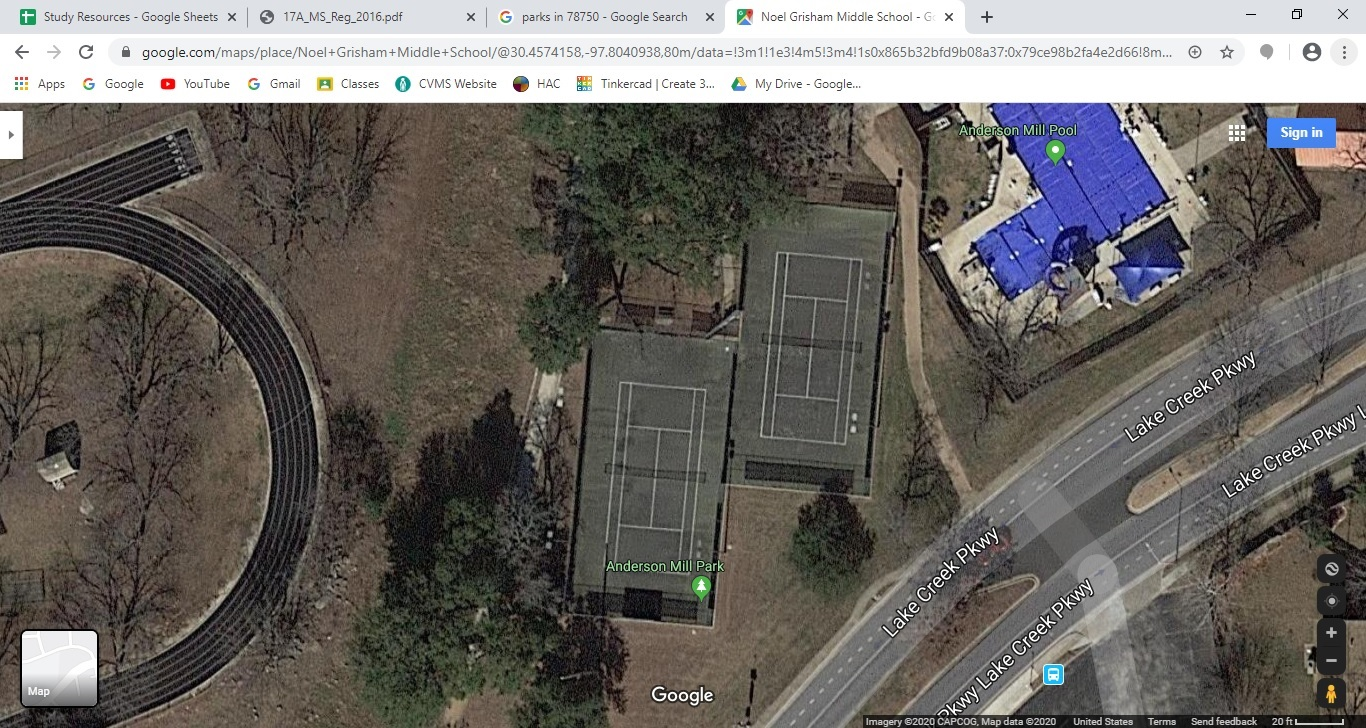tennis: (741, 195, 875, 481), (582, 337, 718, 612)
